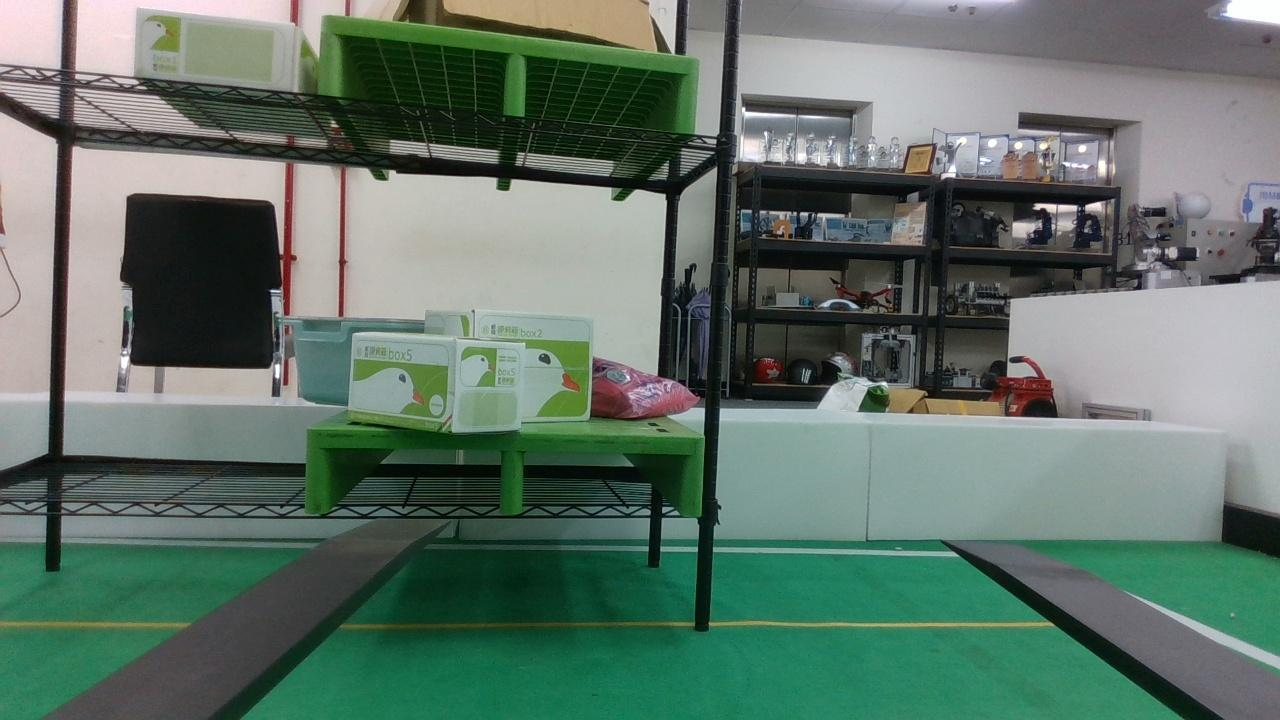Pallet: (317, 14, 702, 136), (306, 428, 704, 515)
